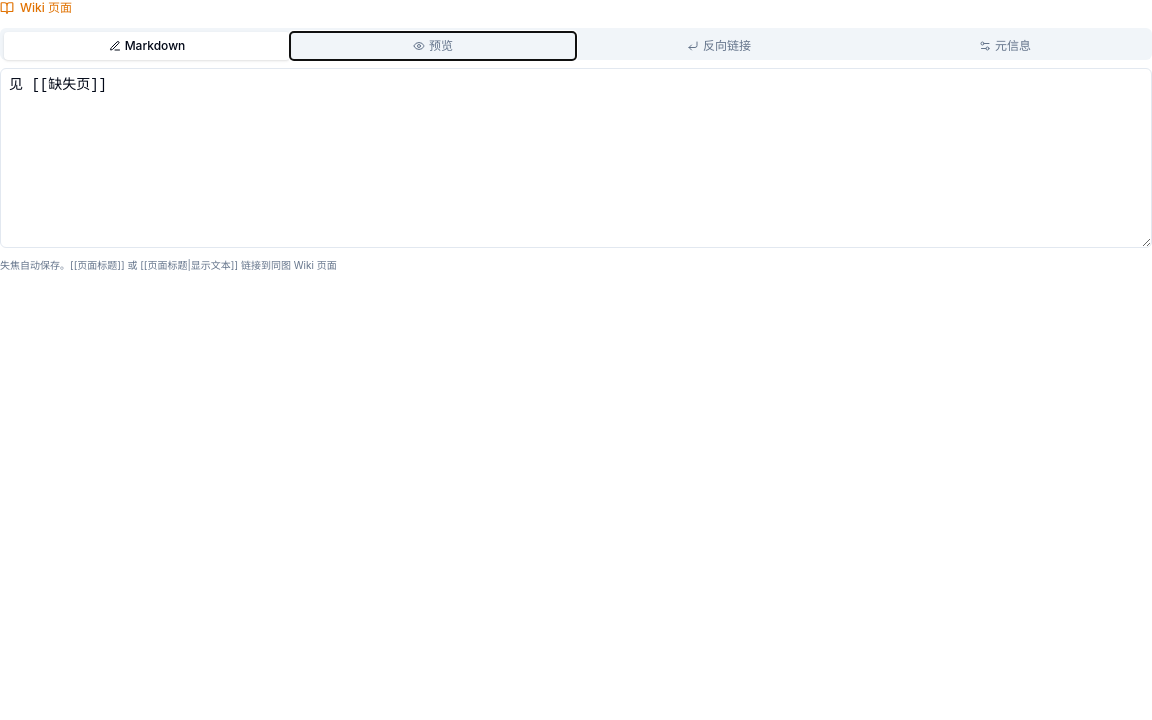
Test case: WikiPageEditor — 预览页签 › 悬空 wikilink 点击触发创建对话框
This screenshot has width=1152, height=720.
Press Enter in the tab "预览", box [290, 32, 576, 60]
Click the tab "预览" at point(433, 46), box [290, 32, 576, 60]
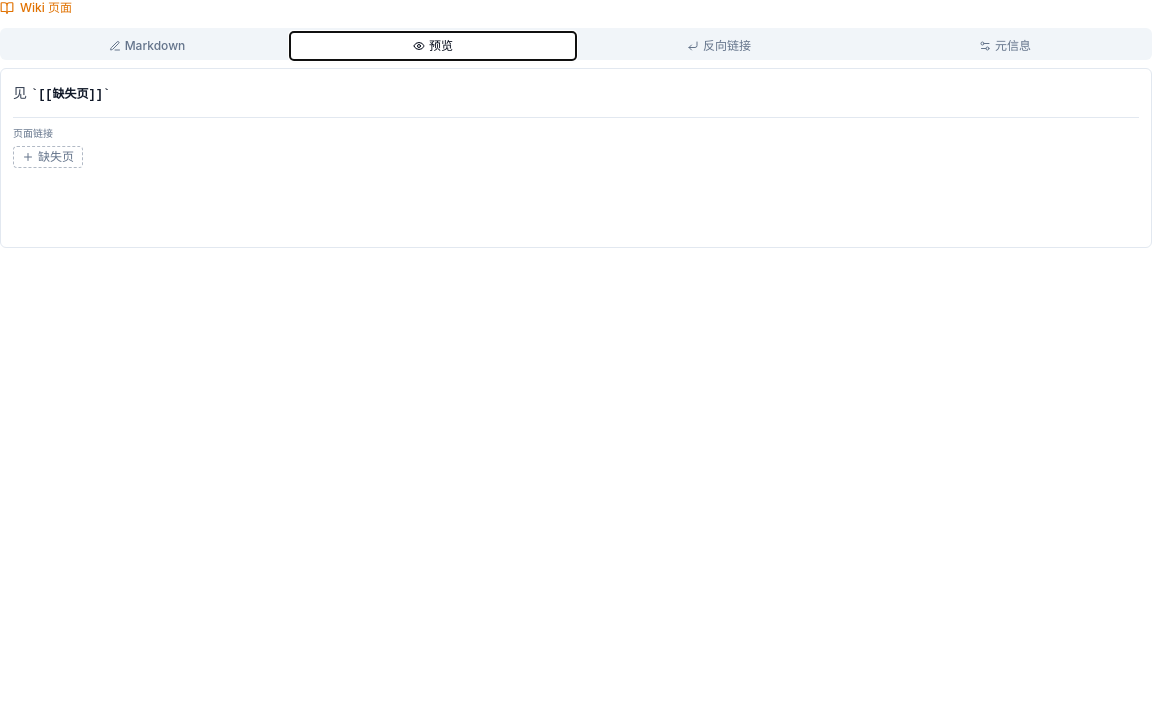
Click the button titled "页面「缺失页」不存在，点击创建" at point(48, 157), box [13, 146, 83, 168]
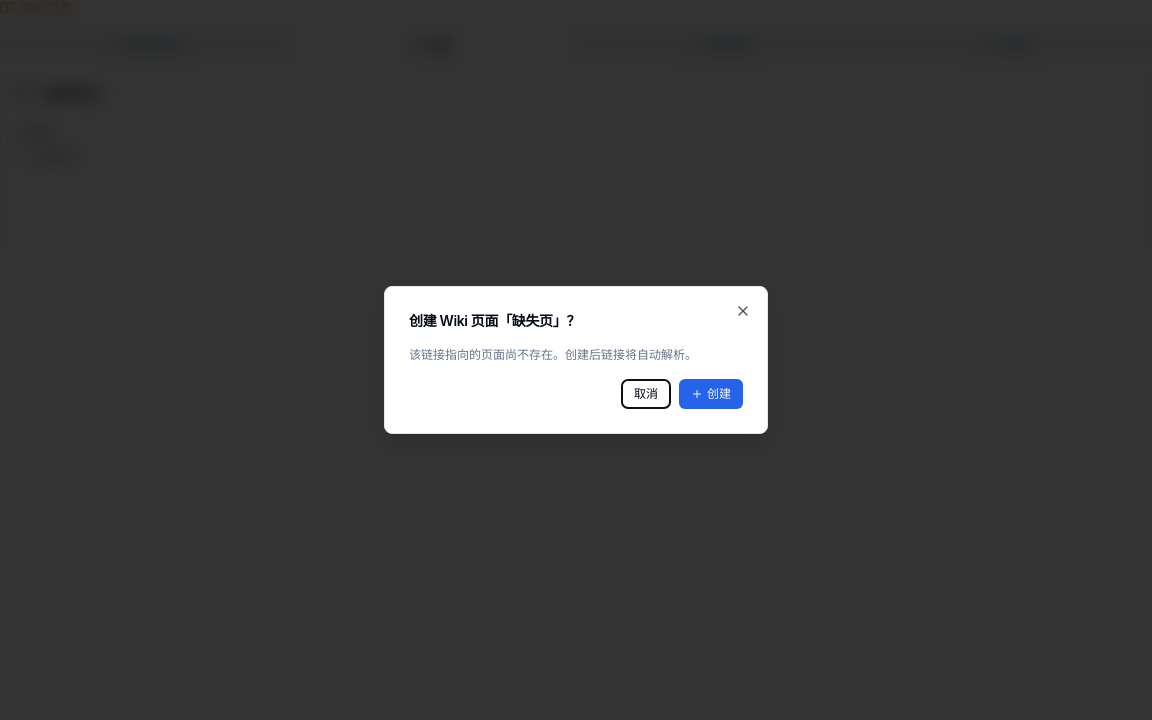
Now the heading "创建 Wiki 页面「缺失页」？" is shown, box [409, 312, 580, 329]
